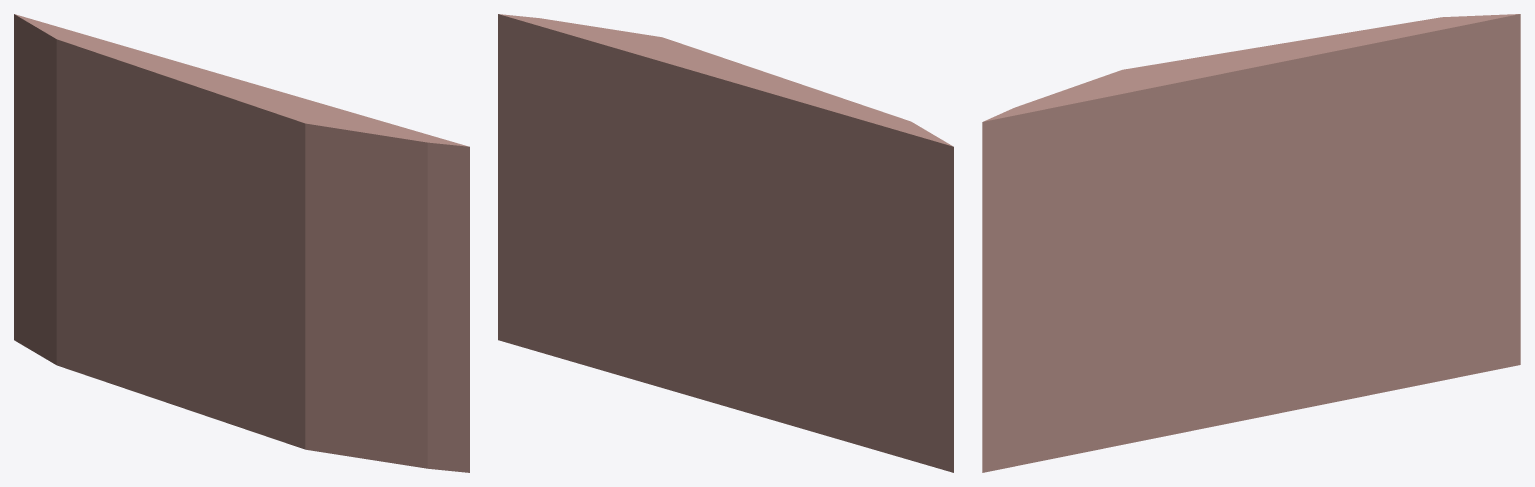
The model's file is simple_example_hole_part_8.obj.
3 renders of one model, left to right at view 1: azimuth 30°, elevation 25°; view 2: azimuth 210°, elevation 25°; view 3: azimuth 270°, elevation 25°, orthographic. The views are drawn at different scales.
Bounding box in the file's own units: 4.57 × 6.92 × 9.62.
